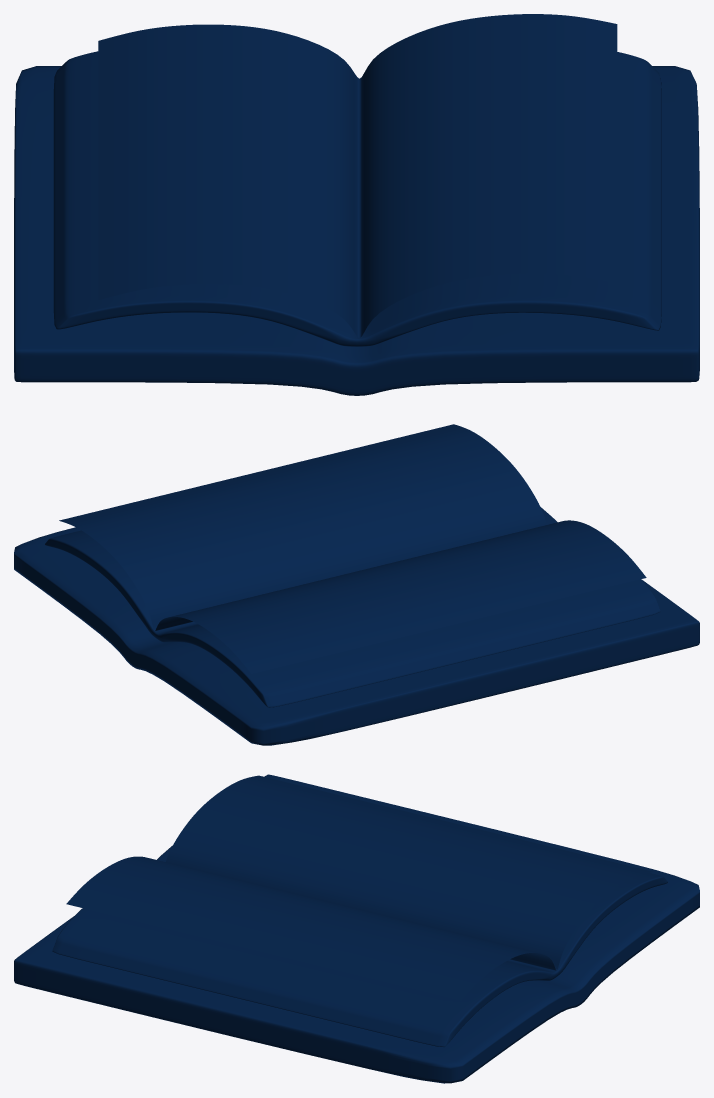
File: Book2.glb
The picture shows the model from 3 angles, top to bottom: view 1: azimuth 30°, elevation 25°; view 2: azimuth 150°, elevation 25°; view 3: azimuth 270°, elevation 25°; orthographic projection. The views are drawn at different scales.
Visible parts, largest first — view 1: polySurface5, polySurface1, polySurface4; view 2: polySurface5, polySurface1, polySurface4; view 3: polySurface5, polySurface1, polySurface4.
Boxes of the visible parts, box(x1,y1,x2,y2) form: polySurface5: box(98, 14, 617, 338); polySurface1: box(14, 66, 699, 395); polySurface4: box(53, 51, 661, 346); polySurface5: box(59, 424, 646, 674); polySurface1: box(14, 507, 699, 745); polySurface4: box(45, 530, 660, 707); polySurface5: box(66, 775, 653, 1000); polySurface1: box(14, 774, 699, 1083); polySurface4: box(52, 873, 667, 1046).
Size of the model in its own units: 90.32 by 11.79 by 90.5.
